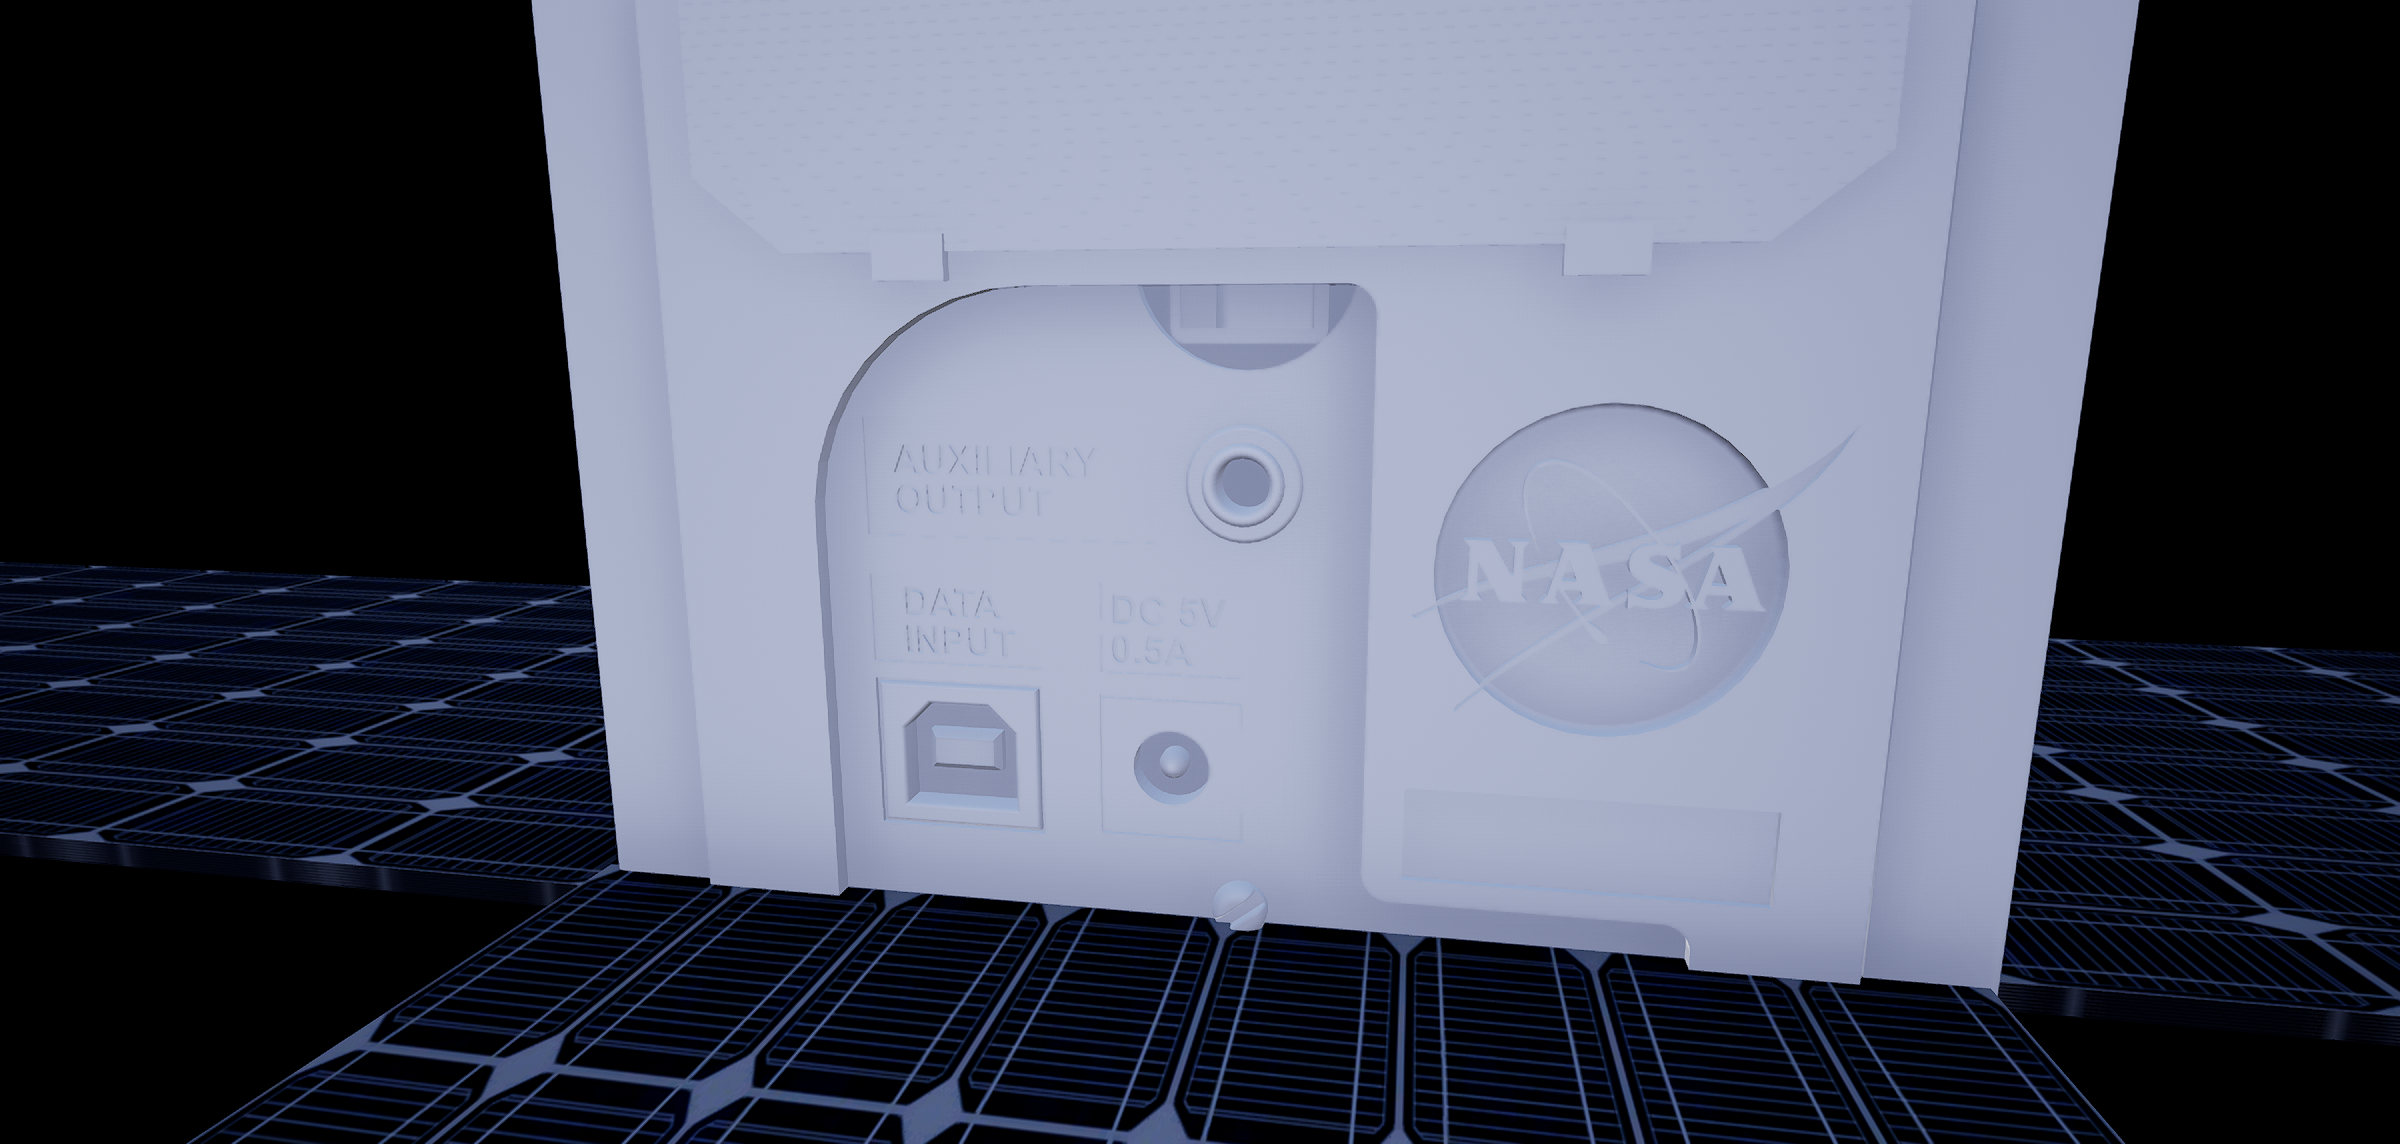aux: (1176, 415, 1313, 554)
dc: (1123, 727, 1223, 821)
usb: (892, 695, 1026, 819)
